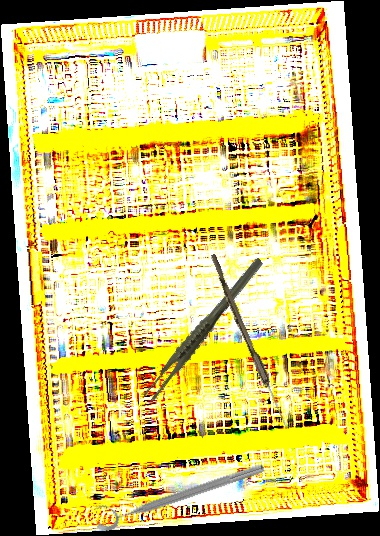Fixation Ring: (89, 449, 267, 535)
Surgical Spoon: (206, 253, 292, 430)
Tissue Forceps: (122, 256, 286, 404)
